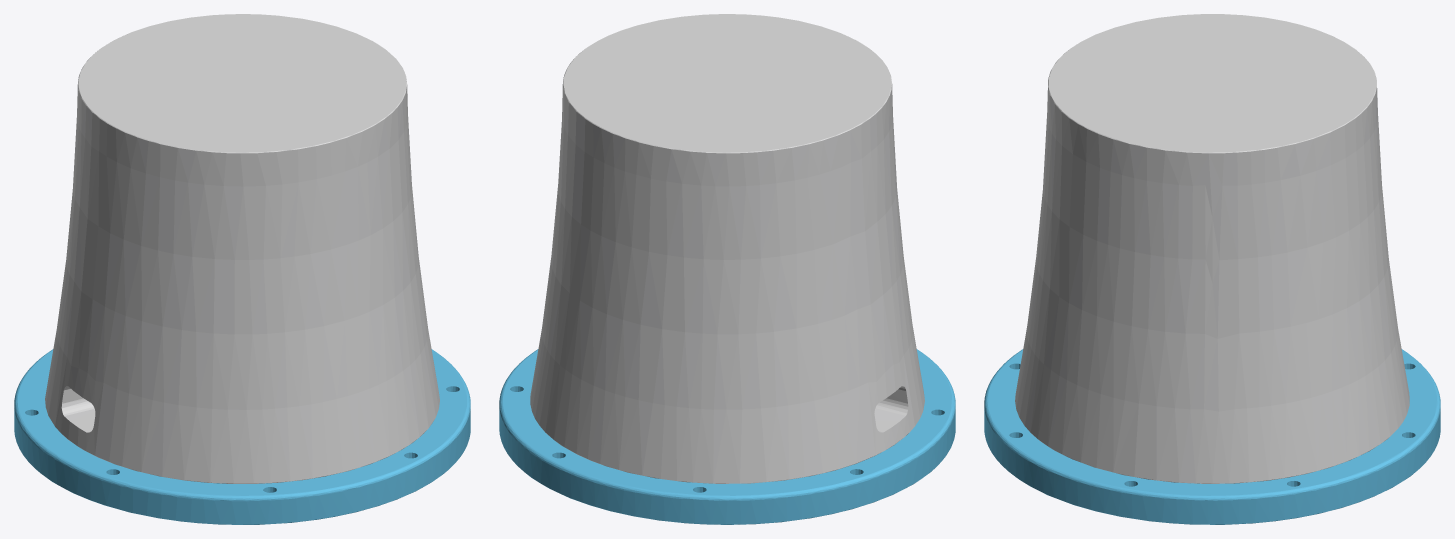
3 renders of one model, left to right at view 1: azimuth 30°, elevation 25°; view 2: azimuth 150°, elevation 25°; view 3: azimuth 270°, elevation 25°, orthographic.
Visible parts, largest first — view 1: Untitled; view 2: Untitled; view 3: Untitled.
Part boxes in pixels (x1,y1,x2,y2): Untitled: (14,14,470,524); Untitled: (499,14,955,524); Untitled: (984,14,1440,524).
Bounding box in the file's own units: 0.215 × 0.215 × 0.1795.
